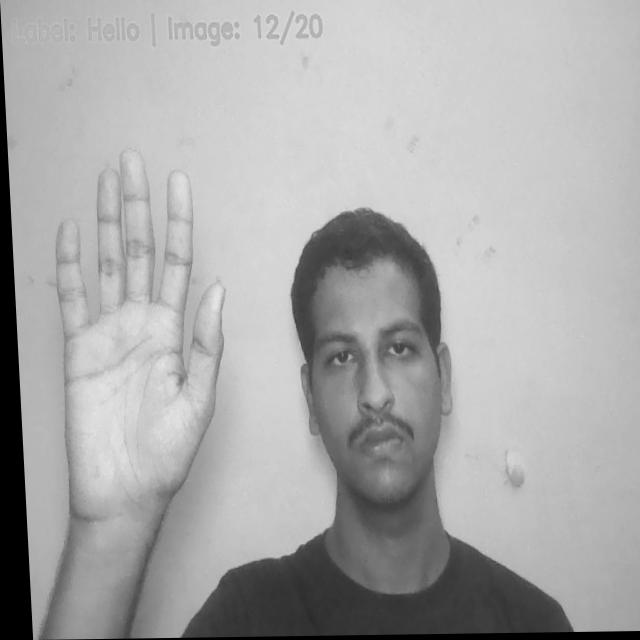Hello: (53, 144, 220, 522)
